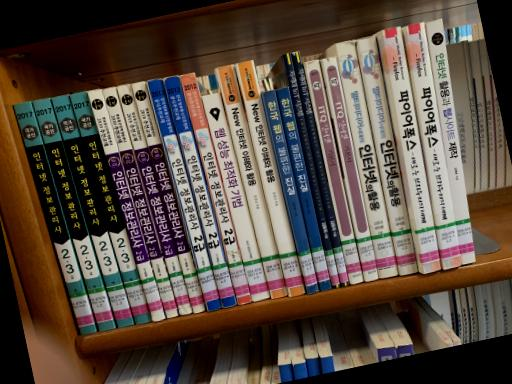book-spine: (13, 101, 96, 336), (32, 97, 115, 331), (52, 95, 134, 328), (70, 91, 151, 325), (88, 89, 165, 321), (102, 87, 178, 318), (147, 78, 222, 312), (118, 84, 193, 315), (132, 81, 206, 313), (164, 75, 237, 308), (216, 64, 288, 299), (180, 73, 252, 304), (237, 60, 306, 297), (336, 40, 399, 280), (357, 35, 419, 276), (383, 26, 441, 275), (202, 92, 271, 301), (406, 22, 462, 270), (283, 53, 340, 289), (292, 51, 349, 287), (304, 60, 363, 284), (323, 56, 378, 281), (426, 18, 475, 265), (264, 90, 319, 295), (277, 87, 332, 291)
